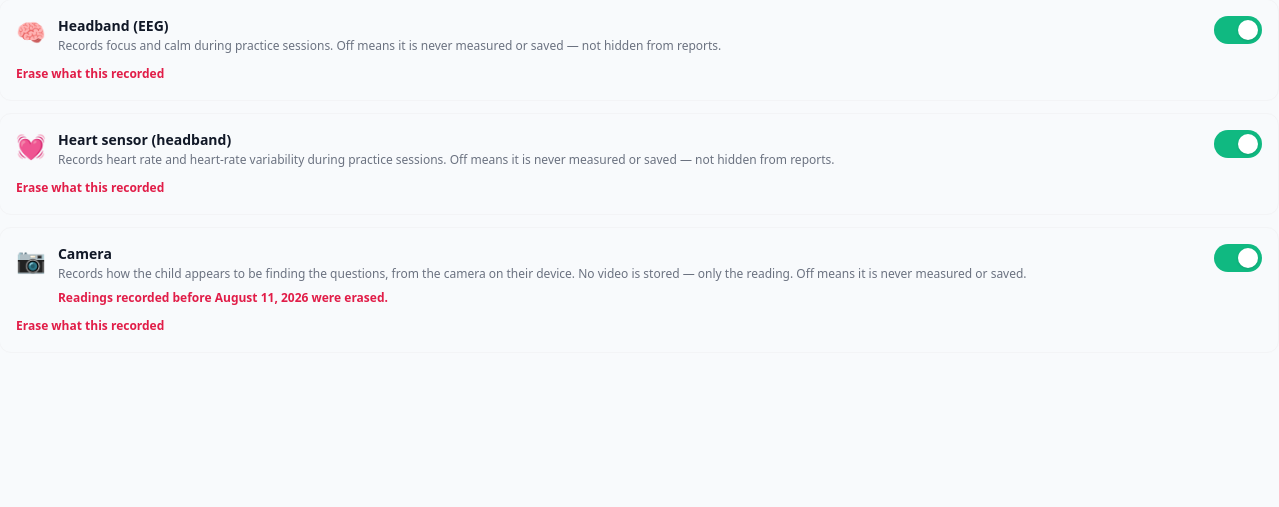
Test: erasing stored readings › does not carry the acknowledgement over to another channel
expect the text "Camera" is shown: met, box [58,244,112,263]
Click the button "Erase what this recorded" below "Readings recorded before": (90, 326) [16,318,164,334]
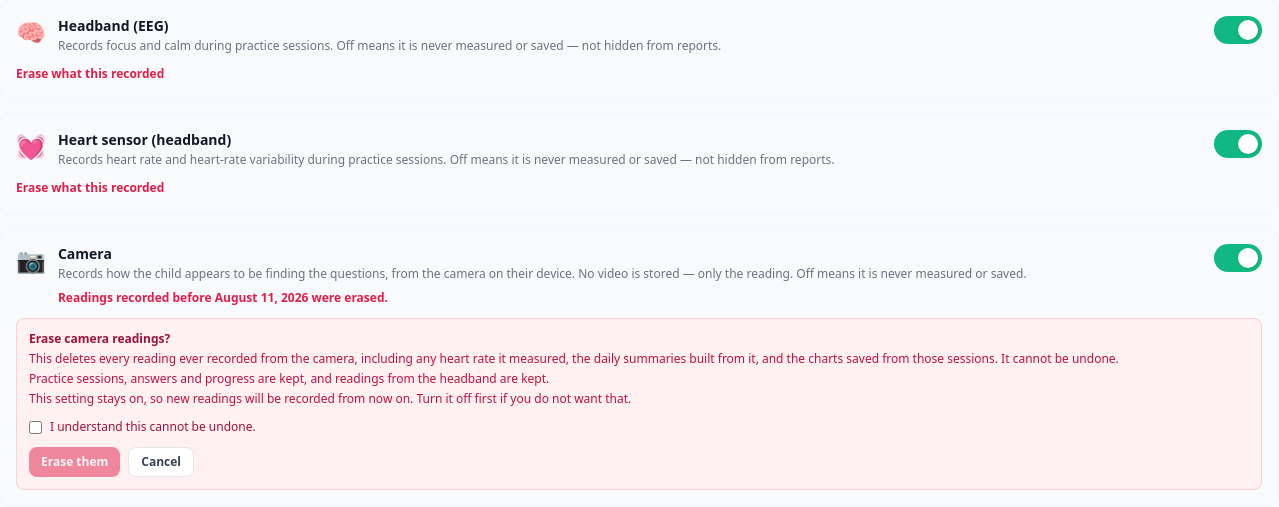
Click the checkbox: (36, 428) [29,421,42,434]
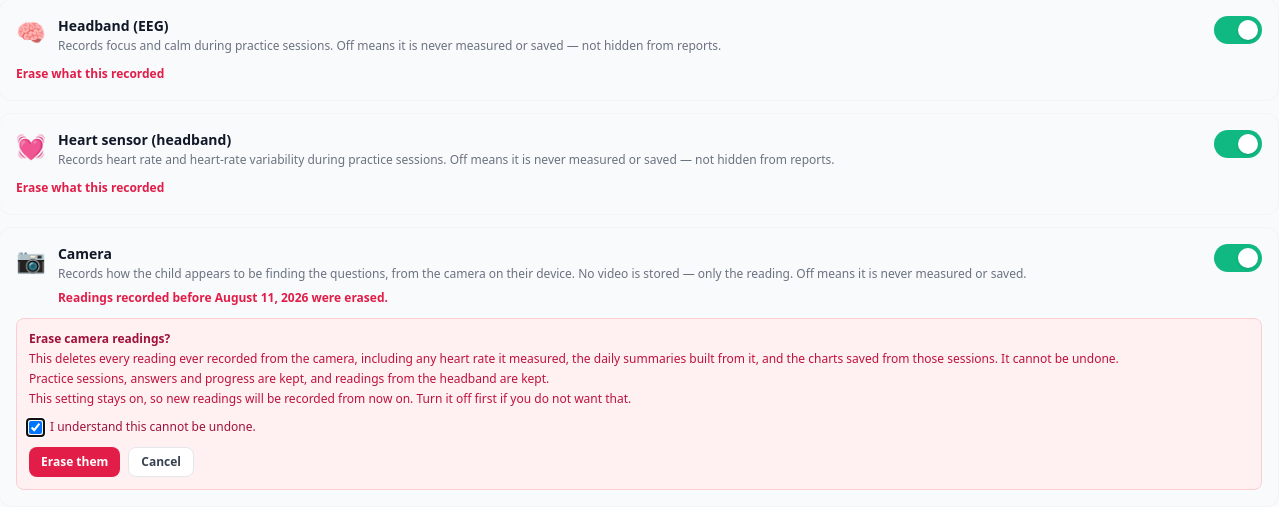
Straight to another channel, not via Cancel, which also clears the box.
Click the button "Erase what this recorded" below "Headband (EEG)": (90, 74) [16,66,164,82]
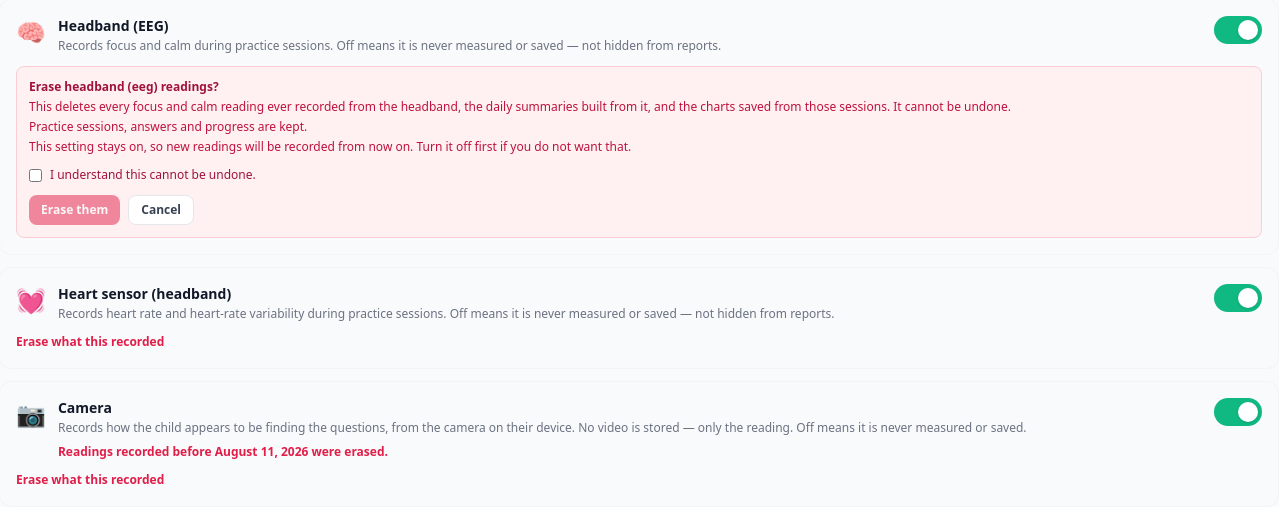
expect the checkbox is not checked: met, box [29,169,42,182]
expect the button "Erase them" is disabled: met, box [29,195,120,225]
